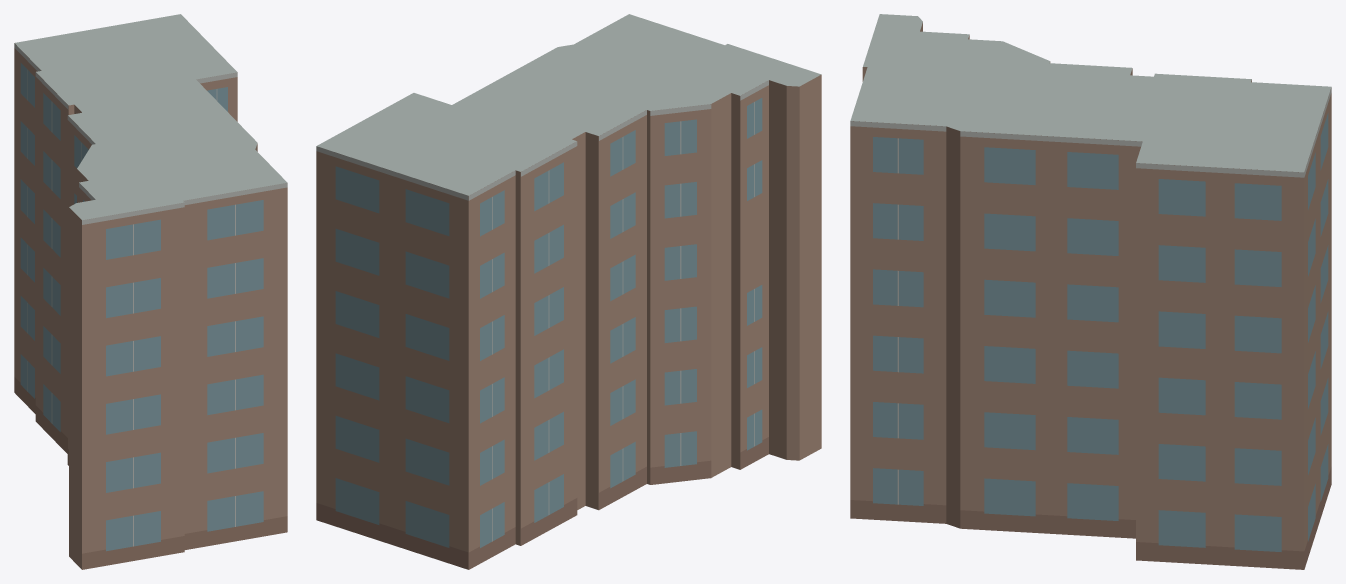
File: survey-upis-32655249.glb
3 views of the same model, side by side, from view 1: azimuth 30°, elevation 25°; view 2: azimuth 150°, elevation 25°; view 3: azimuth 270°, elevation 25° (orthographic). The views are drawn at different scales.
Visible parts, largest first — view 1: survey-upis-32655249.tmp; view 2: survey-upis-32655249.tmp; view 3: survey-upis-32655249.tmp.
Part boxes in pixels (box(x1,y1,x2,y2)): survey-upis-32655249.tmp: box(14, 14, 287, 569); survey-upis-32655249.tmp: box(316, 14, 821, 569); survey-upis-32655249.tmp: box(850, 14, 1331, 569).
Bounding box in the file's own units: 15.65 × 18.3 × 20.09.
